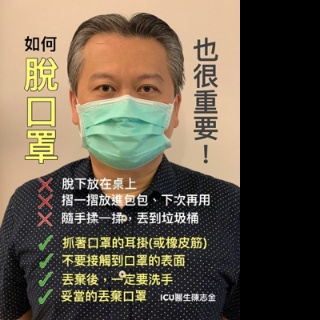with_mask: (76, 69, 172, 171)
